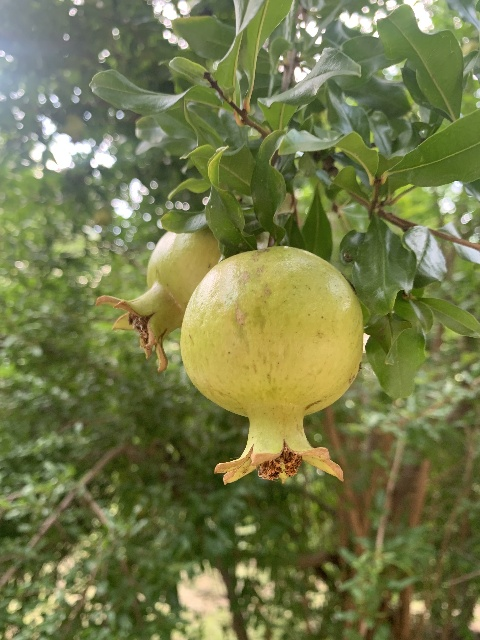mid-growth: (179, 245, 363, 484), (96, 224, 219, 373)
